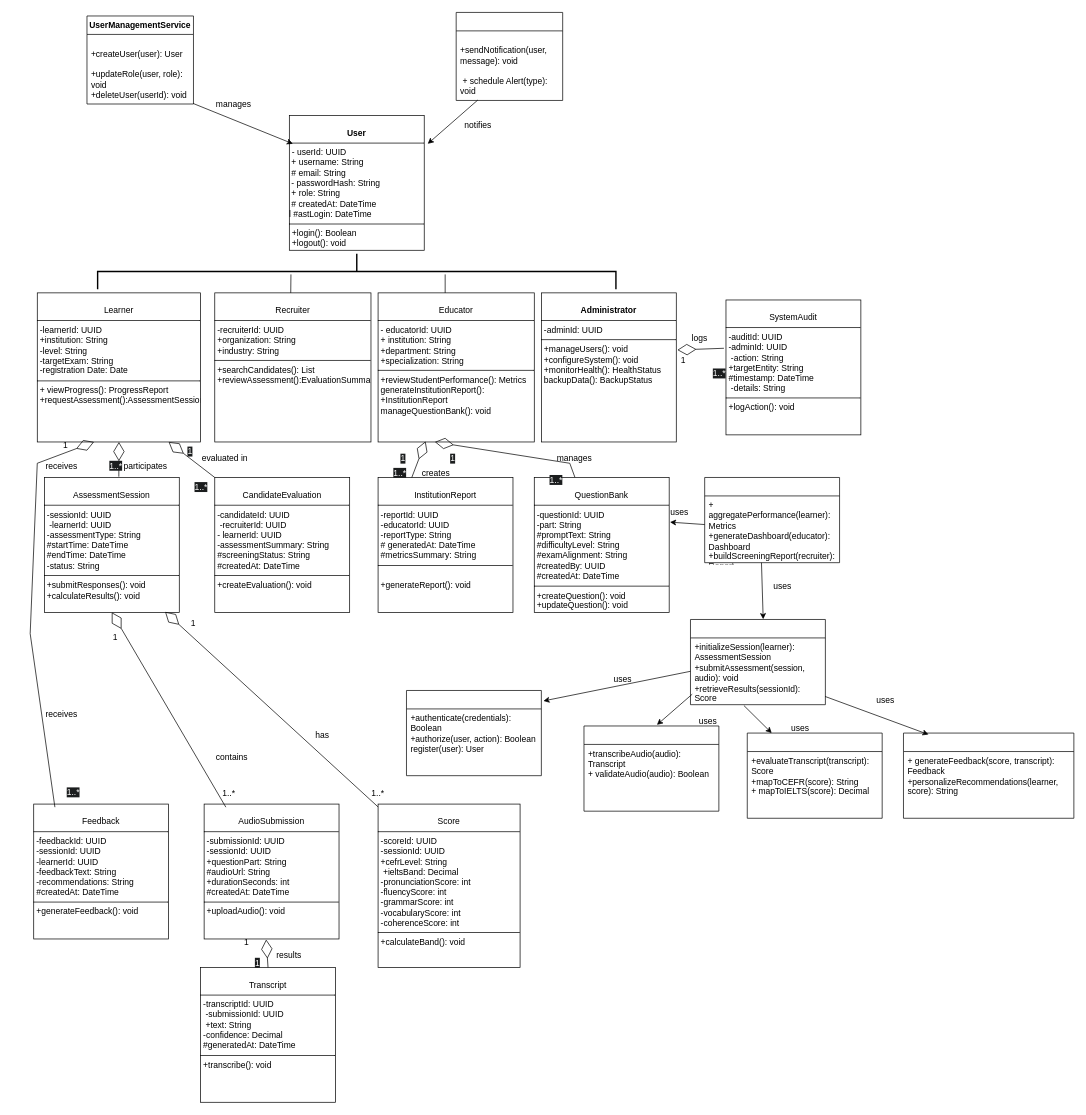
The diagram is 1086 pixels wide and 1115 high, and some of its shapes have lost their labels. The box of each missing label's shape, as (x1, y1, x2, y2) in pixels:
AnalyticsService: (704, 477, 840, 563)
AssessmentService: (690, 619, 825, 705)
AuthenticationService: (406, 690, 541, 776)
FeedbackService: (903, 732, 1074, 818)
NotificationService: (455, 12, 563, 100)
ScoringService: (747, 732, 882, 818)
SpeechService: (583, 725, 719, 811)
